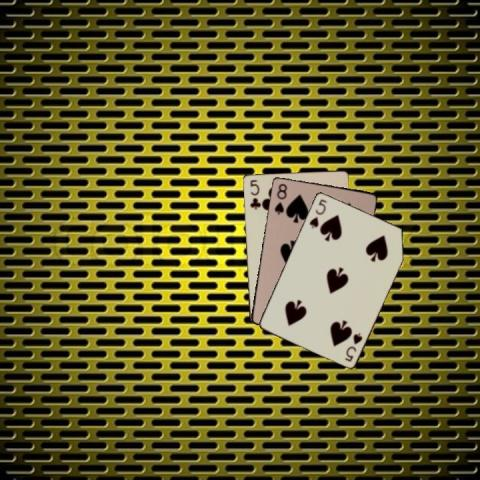5c: (246, 176, 260, 210)
5s: (306, 196, 328, 229), (342, 329, 363, 363)
8s: (271, 181, 288, 216)
